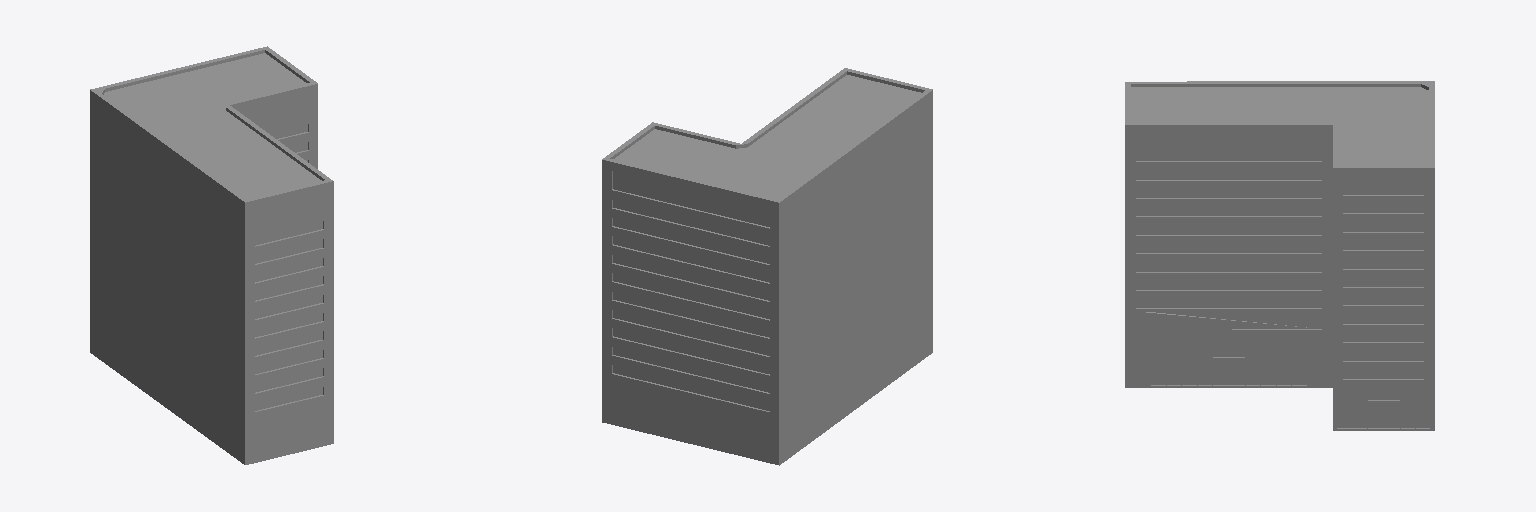
The model's file is Buildingnearnuclear.obj.
3 views of the same model, side by side, from view 1: azimuth 30°, elevation 25°; view 2: azimuth 150°, elevation 25°; view 3: azimuth 270°, elevation 25° (orthographic).
Visible parts, largest first — view 1: Building10.001; view 2: Building10.001; view 3: Building10.001.
Part boxes in pixels (bbox=[...]): Building10.001: bbox=[90, 46, 333, 464]; Building10.001: bbox=[602, 68, 932, 465]; Building10.001: bbox=[1125, 81, 1434, 430].
Bounding box in the file's own units: 0.7312 × 1.03 × 1.1.